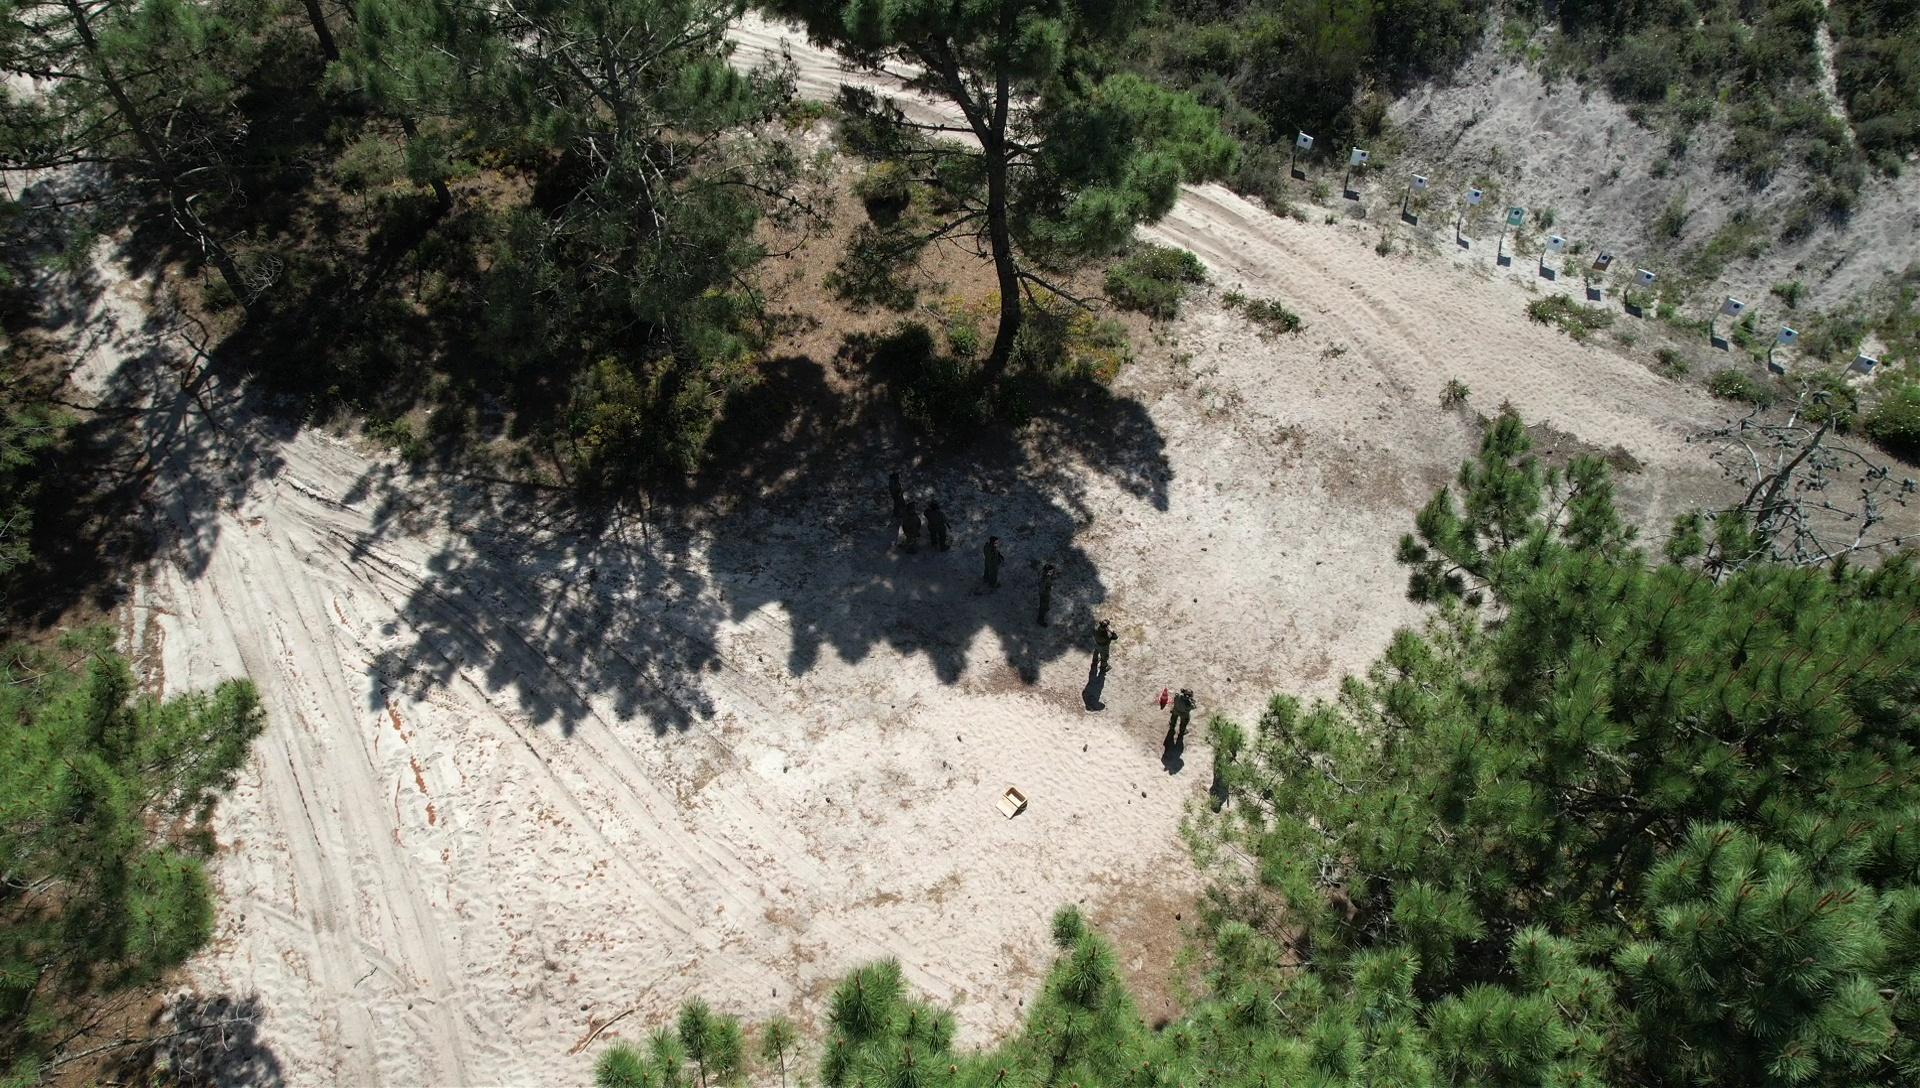Soldier: (1087, 616, 1120, 688), (1164, 684, 1201, 748), (1029, 562, 1059, 632), (978, 531, 1007, 597), (895, 497, 926, 558), (923, 497, 951, 562), (885, 464, 909, 522)
